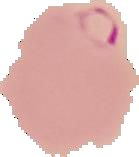parasitized: (74, 4, 121, 50)
